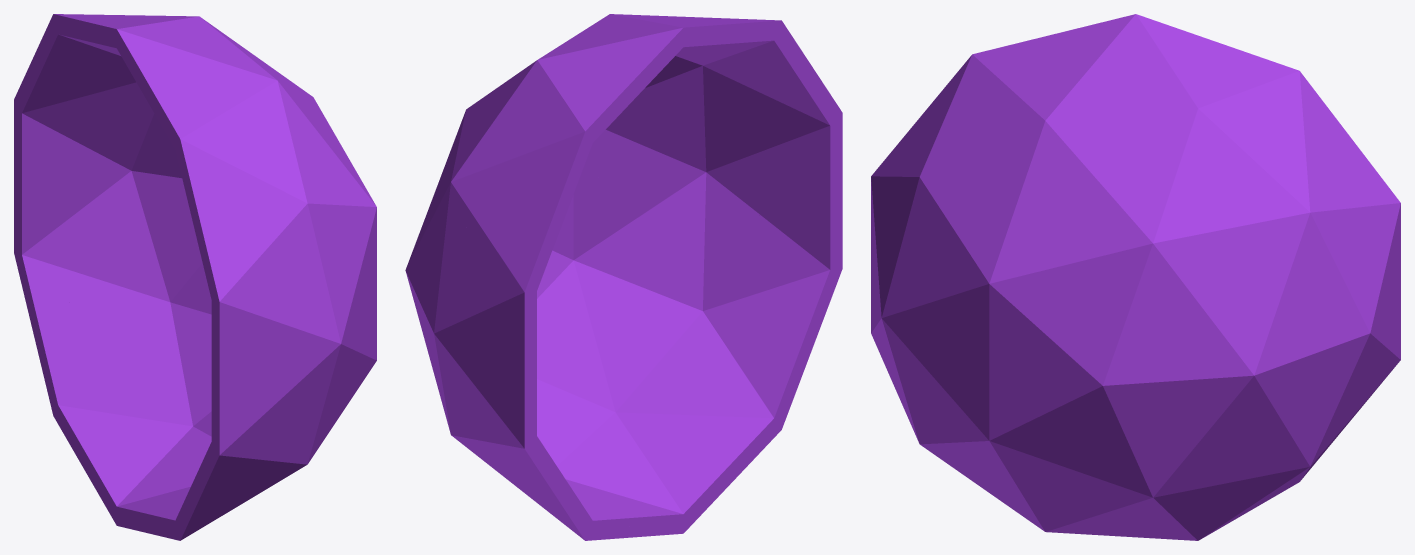
File: Exhibition_14_chunks.fbx
3 views of the same model, side by side, from view 1: azimuth 30°, elevation 25°; view 2: azimuth 150°, elevation 25°; view 3: azimuth 270°, elevation 25° (orthographic). The views are drawn at different scales.
Visible parts, largest first — view 1: Exhibition_14_9, Exhibition_14_0, Exhibition_14_2, Exhibition_14_4, Exhibition_14_7, Exhibition_14_6, Exhibition_14_1, Exhibition_14_5, Exhibition_14_3, Exhibition_14_8; view 2: Exhibition_14_0, Exhibition_14_4, Exhibition_14_6, Exhibition_14_1, Exhibition_14_9, Exhibition_14_2, Exhibition_14_3, Exhibition_14_5, Exhibition_14_7, Exhibition_14_8; view 3: Exhibition_14_1, Exhibition_14_0, Exhibition_14_9, Exhibition_14_4, Exhibition_14_6, Exhibition_14_5, Exhibition_14_8, Exhibition_14_2, Exhibition_14_7.
Part boxes in pixels (x1,y1,x2,y2): Exhibition_14_9: (14,120,202,324); Exhibition_14_0: (79,286,376,540); Exhibition_14_2: (163,116,273,457); Exhibition_14_4: (262,157,363,409); Exhibition_14_7: (31,263,211,460); Exhibition_14_6: (14,14,135,188); Exhibition_14_1: (87,15,376,291); Exhibition_14_5: (90,23,306,170); Exhibition_14_3: (189,406,312,503); Exhibition_14_8: (129,82,179,169); Exhibition_14_0: (537,170,807,537); Exhibition_14_4: (616,55,778,228); Exhibition_14_6: (461,76,643,368); Exhibition_14_1: (405,14,652,309); Exhibition_14_9: (420,252,555,489); Exhibition_14_2: (714,19,842,272); Exhibition_14_3: (695,206,840,360); Exhibition_14_5: (642,15,760,88); Exhibition_14_7: (469,449,632,540); Exhibition_14_8: (413,157,496,340); Exhibition_14_1: (944,35,1316,425); Exhibition_14_0: (897,331,1273,540); Exhibition_14_9: (1265,247,1400,472); Exhibition_14_4: (874,133,978,374); Exhibition_14_6: (1213,41,1400,269); Exhibition_14_5: (949,14,1200,172); Exhibition_14_8: (1246,163,1347,435); Exhibition_14_2: (871,46,1005,335); Exhibition_14_7: (1252,419,1351,506).
Bounding box in the file's own units: 395 × 715 × 675.
